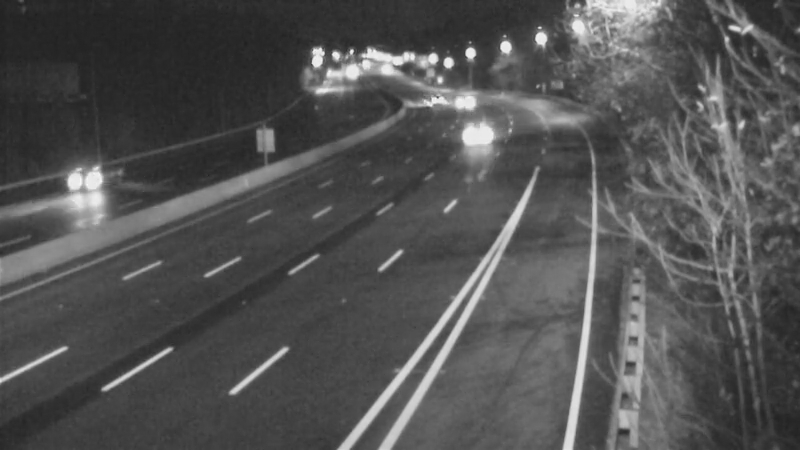vehicle: (39, 143, 119, 223), (359, 45, 409, 95), (411, 73, 461, 123), (439, 69, 489, 119), (456, 107, 506, 157)
